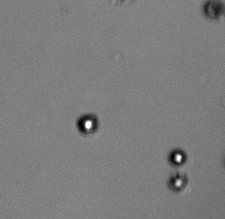Dead Cell: (203, 1, 224, 20)
Living Cell: (75, 112, 100, 136), (167, 170, 189, 191), (167, 147, 187, 167)
